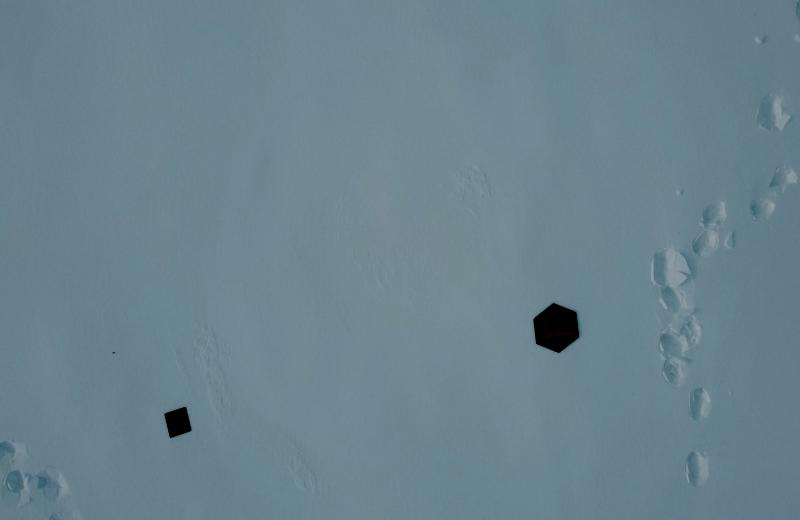Hexagon: (533, 304, 582, 355)
Square: (164, 404, 194, 439)
